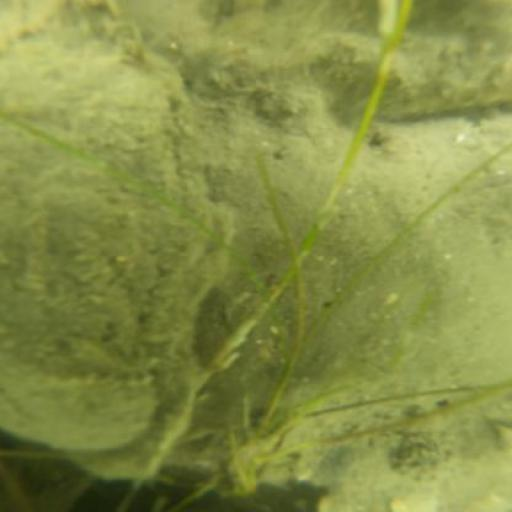Oyster-Closed: (3, 2, 239, 455), (2, 366, 170, 448)
